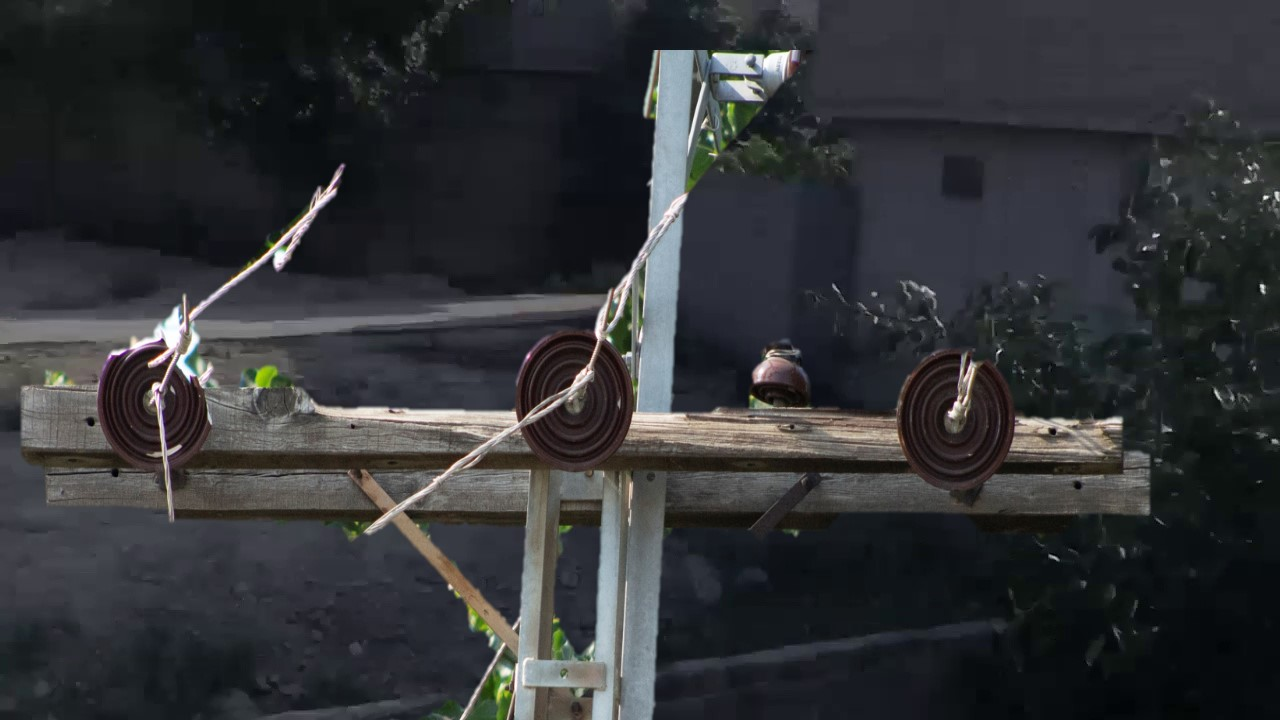defect_disc: (92, 335, 221, 478)
insulator_disc: (891, 344, 1021, 497), (514, 329, 639, 480)
insulator_pin: (747, 340, 818, 402)
